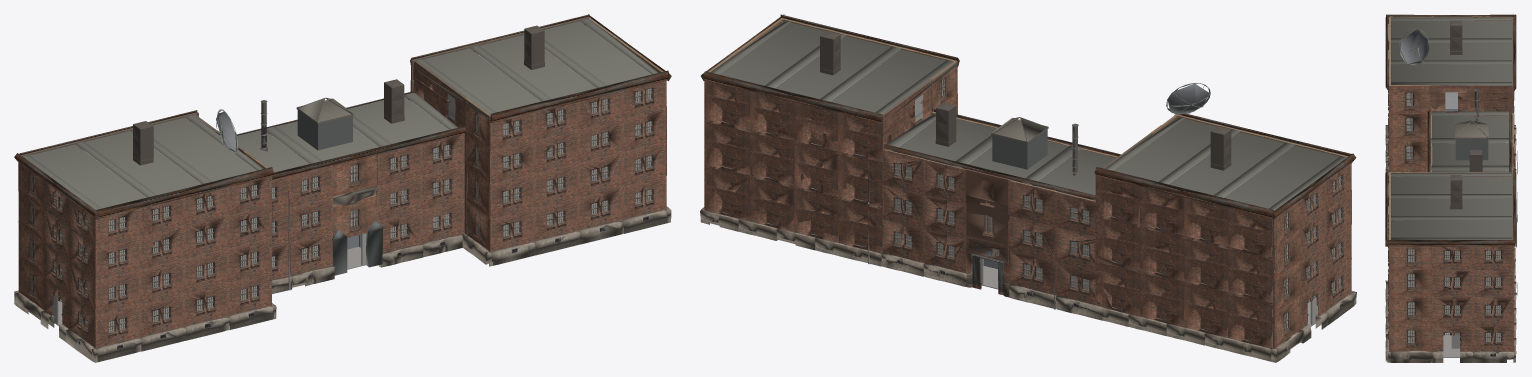
File: prison-block.footing-v1.lod0.glb
The picture shows the model from 3 angles, left to right: view 1: azimuth 30°, elevation 25°; view 2: azimuth 150°, elevation 25°; view 3: azimuth 270°, elevation 25°; orthographic projection. The views are drawn at different scales.
Parts seen in each view (by area): view 1: Jail_Build9_MAT_0, Jail_GLASS_Clear_m_0, Jail_Build7_MAT_0, Jail_grills_mat_0, Jail_Build8_MAT_0, Jail_Build4_MAT_0, Jail_Build1_MAT_0; view 2: Jail_Build1_MAT_0, Jail_GLASS_Clear_m_0, Jail_Build9_MAT_0, Jail_Build4_MAT_0, Jail_grills_mat_0, Jail_Build7_MAT_0, Jail_Build8_MAT_0; view 3: Jail_GLASS_Clear_m_0, Jail_Build9_MAT_0, Jail_Build7_MAT_0, Jail_grills_mat_0, Jail_Build1_MAT_0, Jail_Build8_MAT_0, Jail_Build4_MAT_0.
Part boxes in pixels (bbox=[...]): Jail_Build9_MAT_0: bbox=[43, 17, 666, 348]; Jail_GLASS_Clear_m_0: bbox=[23, 18, 658, 336]; Jail_Build7_MAT_0: bbox=[18, 54, 664, 309]; Jail_grills_mat_0: bbox=[14, 14, 671, 292]; Jail_Build8_MAT_0: bbox=[40, 210, 667, 362]; Jail_Build4_MAT_0: bbox=[14, 206, 671, 362]; Jail_Build1_MAT_0: bbox=[21, 17, 588, 184]; Jail_Build1_MAT_0: bbox=[705, 79, 1273, 348]; Jail_GLASS_Clear_m_0: bbox=[710, 21, 1346, 347]; Jail_Build9_MAT_0: bbox=[704, 18, 1351, 329]; Jail_Build4_MAT_0: bbox=[700, 210, 1356, 362]; Jail_grills_mat_0: bbox=[701, 14, 1356, 330]; Jail_Build7_MAT_0: bbox=[755, 19, 1300, 348]; Jail_Build8_MAT_0: bbox=[701, 207, 1354, 343]; Jail_GLASS_Clear_m_0: bbox=[1388, 16, 1517, 357]; Jail_Build9_MAT_0: bbox=[1388, 16, 1514, 351]; Jail_Build7_MAT_0: bbox=[1390, 16, 1511, 351]; Jail_grills_mat_0: bbox=[1385, 14, 1516, 343]; Jail_Build1_MAT_0: bbox=[1430, 16, 1514, 239]; Jail_Build8_MAT_0: bbox=[1385, 126, 1513, 362]; Jail_Build4_MAT_0: bbox=[1385, 124, 1516, 362].
Size of the model in its own units: 51.79 by 17.23 by 12.72.
8 materials, 7 textured.
